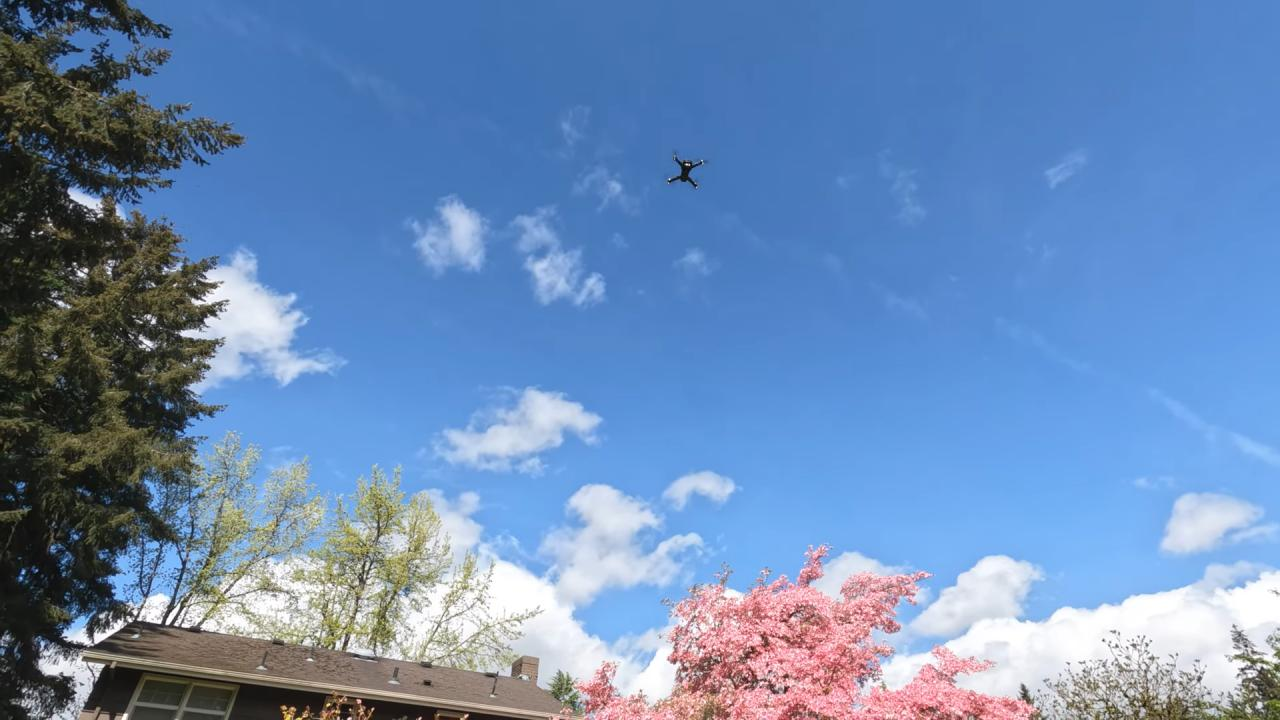Drone: (656, 144, 714, 201)
